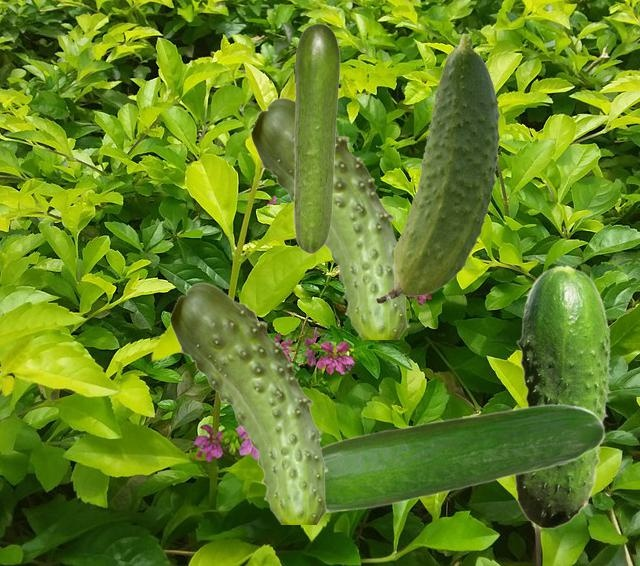cucumber: (250, 97, 409, 338), (169, 282, 328, 523), (376, 33, 500, 302), (322, 403, 604, 512), (514, 264, 611, 528), (293, 23, 339, 253)
